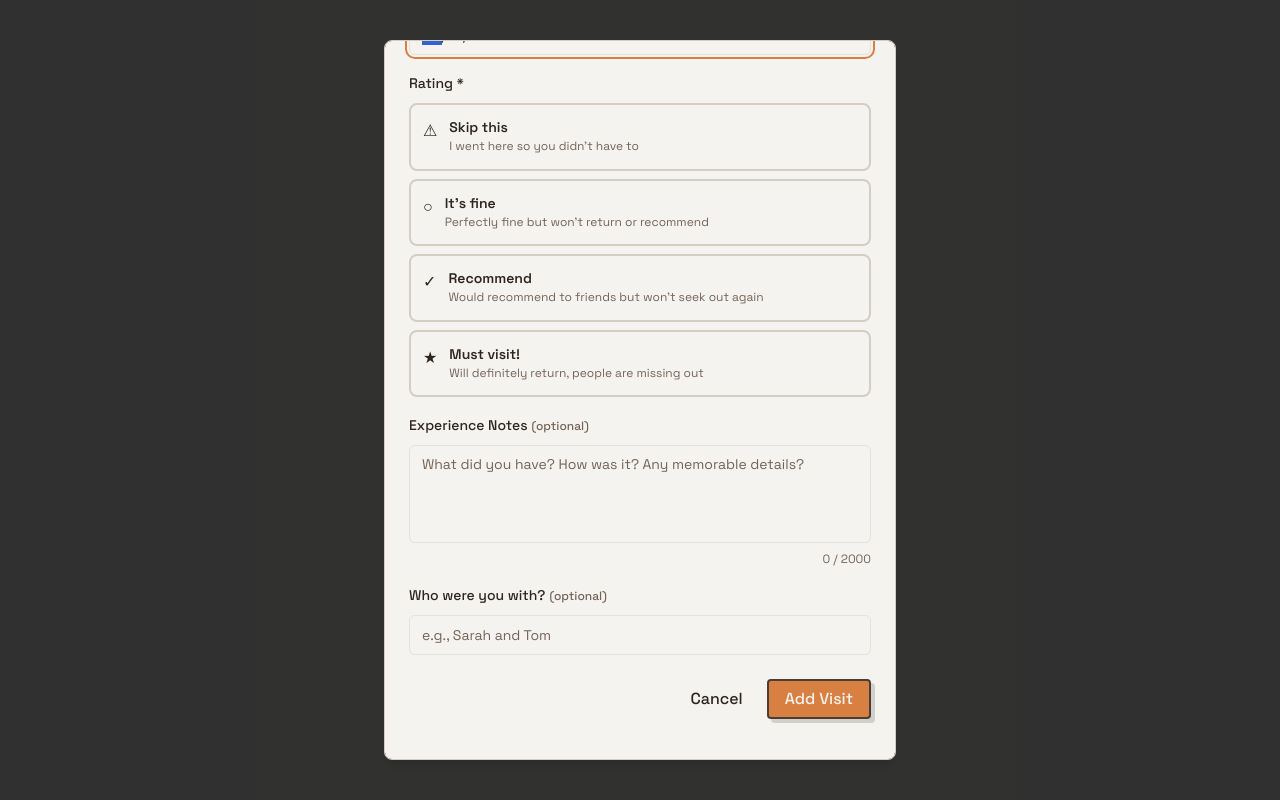
Test: VisitModal › Form Validation › should show error when submitting without rating
(page scrolled)
Click the button "Add Visit".
click(819, 699)  # box [767, 679, 871, 719]
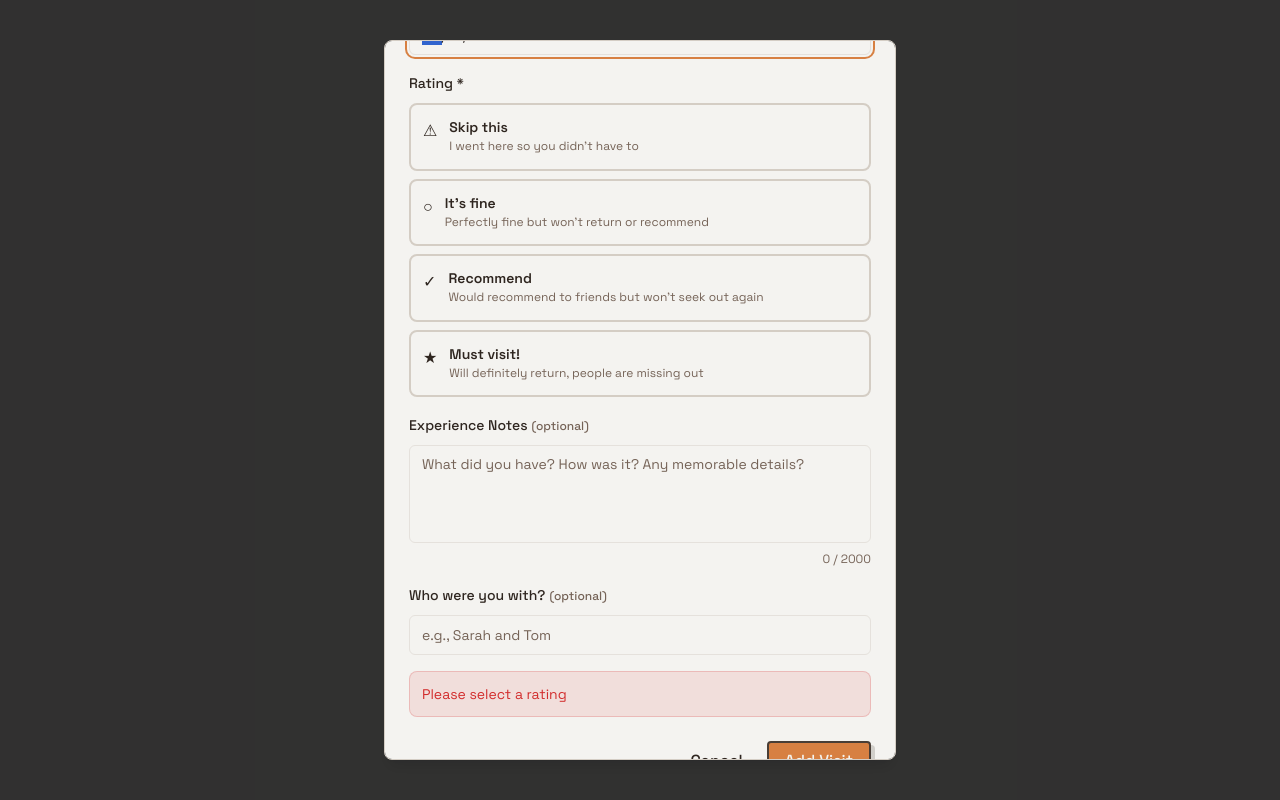
Check: the text "Please select a rating" is shown, box [422, 685, 567, 703]
